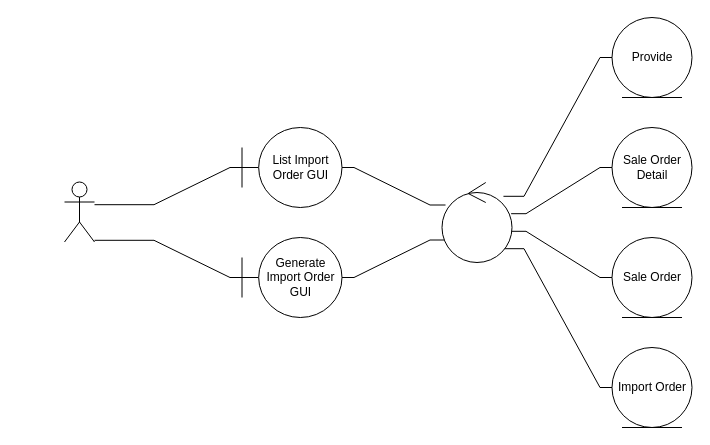
Some shapes in this 710 by 445 pixel diagram are drawn without their labels. Each missing label, with the box of its shape:
Import Order Controller: (441, 182, 512, 262)
Import Order Employee: (64, 181, 94, 242)
